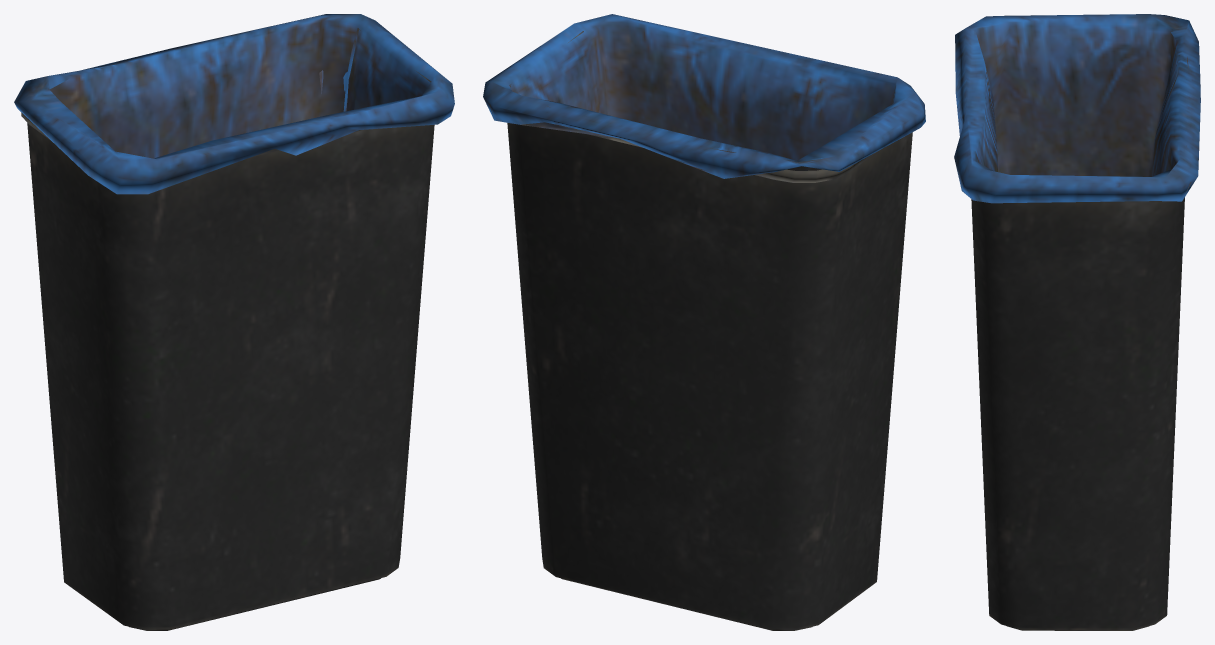
File: Trashbin 1.fbx
3 renders of one model, left to right at view 1: azimuth 30°, elevation 25°; view 2: azimuth 150°, elevation 25°; view 3: azimuth 270°, elevation 25°, orthographic. The views are drawn at different scales.
Visible parts, largest first — view 1: TrashBag_low; view 2: TrashBag_low; view 3: TrashBag_low.
Boxes of the visible parts, x1=… form: TrashBag_low: x1=14, y1=14, x2=454, y2=630; TrashBag_low: x1=483, y1=14, x2=925, y2=630; TrashBag_low: x1=954, y1=14, x2=1200, y2=630.
Size of the model in its own units: 33.74 by 43.54 by 20.38.
Materials: 1 (1 with a texture image).
